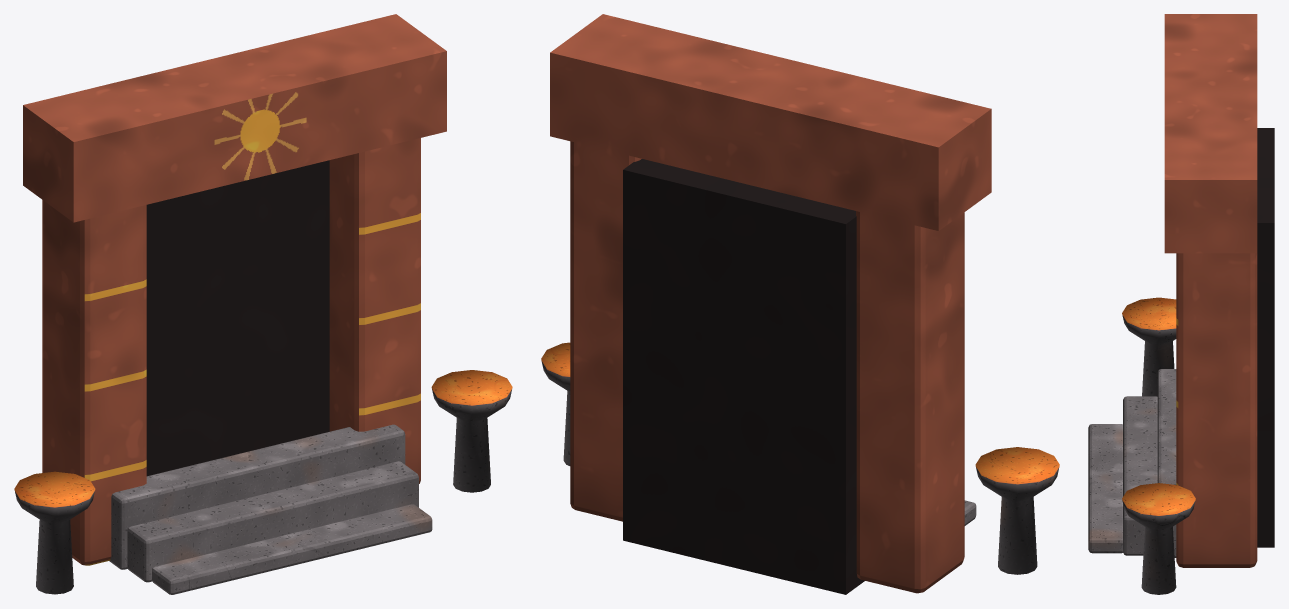
Rendered from temple_facade.glb.
3 views of the same model, side by side, from view 1: azimuth 30°, elevation 25°; view 2: azimuth 150°, elevation 25°; view 3: azimuth 270°, elevation 25° (orthographic). The views are drawn at different scales.
Visible parts, largest first — view 1: TempleFacade; view 2: TempleFacade; view 3: TempleFacade.
Boxes of the visible parts, left/top/right/bottom form: TempleFacade: left=14, top=14, right=512, bottom=594; TempleFacade: left=541, top=14, right=1059, bottom=594; TempleFacade: left=1088, top=14, right=1274, bottom=594.
Bounding box in the file's own units: 4.44 × 3.85 × 1.61.
Materials: 1 (1 with a texture image).
